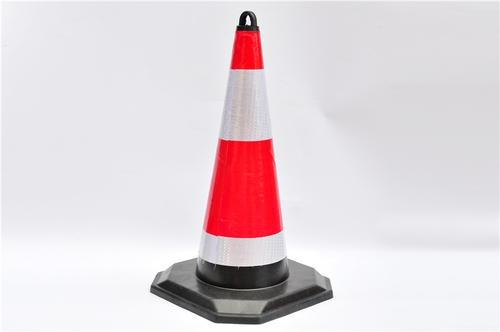cone_barrel: (183, 13, 302, 295)
